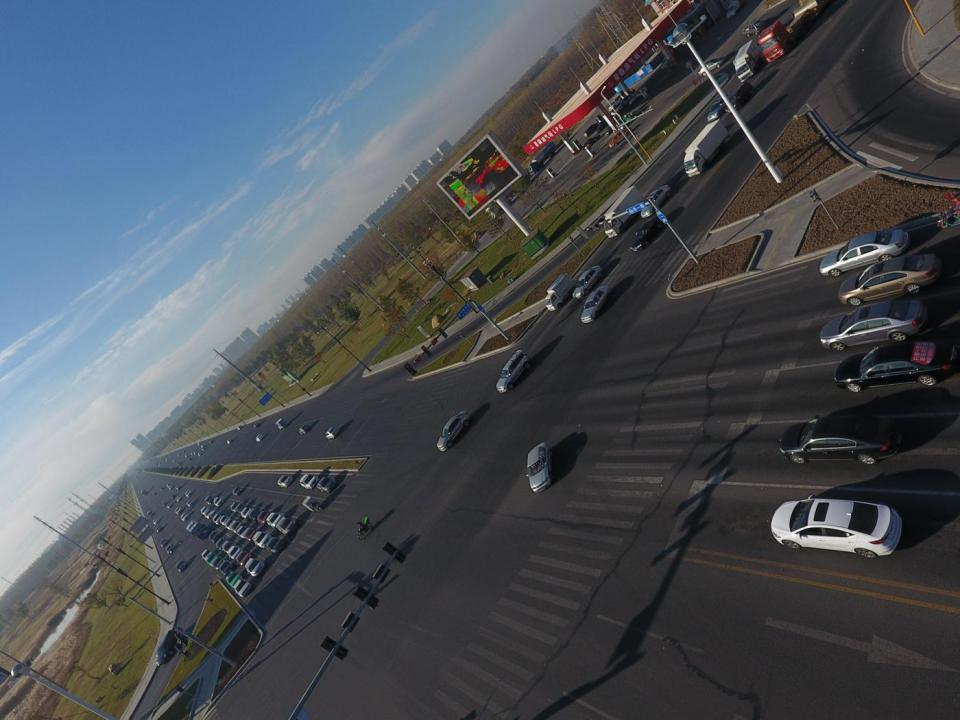bus: (147, 510, 153, 516)
car: (770, 494, 904, 558), (834, 341, 958, 393), (780, 415, 901, 464), (837, 252, 942, 305), (820, 300, 928, 350), (820, 228, 909, 278), (496, 348, 532, 393), (436, 410, 471, 453), (527, 440, 554, 492), (640, 182, 672, 220), (581, 283, 611, 323), (573, 265, 603, 299), (707, 96, 732, 121), (699, 56, 727, 78), (608, 126, 633, 149), (276, 516, 298, 537), (244, 558, 265, 578), (617, 110, 639, 129), (629, 85, 648, 105), (225, 570, 245, 588), (315, 477, 337, 493), (233, 580, 252, 598), (266, 538, 284, 556), (617, 93, 634, 112), (300, 473, 320, 489), (582, 134, 600, 150), (597, 116, 615, 132), (252, 532, 271, 547), (275, 473, 294, 488), (583, 121, 599, 138), (608, 94, 624, 111), (266, 511, 282, 528), (324, 426, 343, 439), (237, 551, 252, 566), (220, 560, 237, 573), (228, 547, 246, 559), (186, 521, 200, 536), (247, 508, 262, 521), (237, 525, 250, 540), (259, 512, 273, 525), (231, 485, 245, 498), (216, 539, 230, 552), (208, 529, 221, 543), (231, 522, 244, 535), (224, 541, 237, 554), (207, 553, 220, 566), (241, 506, 254, 518), (212, 514, 225, 526), (200, 548, 213, 560), (246, 528, 256, 543), (299, 422, 311, 434), (220, 515, 231, 528), (213, 496, 224, 509), (176, 559, 187, 572), (205, 509, 217, 520), (164, 544, 176, 555), (205, 495, 216, 505), (226, 520, 235, 532), (230, 502, 241, 511), (199, 505, 208, 516), (235, 505, 244, 515), (255, 434, 264, 442), (174, 507, 183, 514), (179, 514, 189, 520), (155, 524, 162, 532), (184, 490, 192, 497), (152, 518, 159, 526), (161, 536, 166, 547), (253, 422, 260, 428), (236, 424, 243, 430), (166, 502, 173, 508), (197, 451, 203, 457), (176, 496, 182, 502), (170, 494, 176, 500), (176, 484, 182, 490), (159, 485, 165, 491), (226, 439, 233, 444), (187, 502, 194, 507), (168, 485, 174, 490), (208, 440, 214, 444), (202, 445, 206, 451), (188, 456, 192, 461), (162, 501, 166, 506), (166, 483, 171, 487), (194, 450, 198, 454), (153, 492, 157, 496), (190, 450, 193, 454), (197, 442, 201, 445), (183, 449, 186, 453), (177, 453, 181, 456), (167, 452, 171, 455), (184, 456, 188, 458), (165, 460, 169, 462), (165, 457, 169, 459), (173, 459, 175, 462)
truck: (757, 0, 838, 62), (684, 118, 730, 179), (485, 167, 531, 220), (603, 186, 645, 238), (734, 41, 763, 82), (632, 216, 665, 251), (544, 272, 574, 310), (526, 141, 556, 176), (741, 18, 766, 38), (191, 522, 210, 540), (274, 418, 289, 430), (141, 490, 148, 495), (176, 461, 182, 466)
van: (726, 80, 755, 117), (155, 630, 180, 666), (726, 0, 740, 19)
